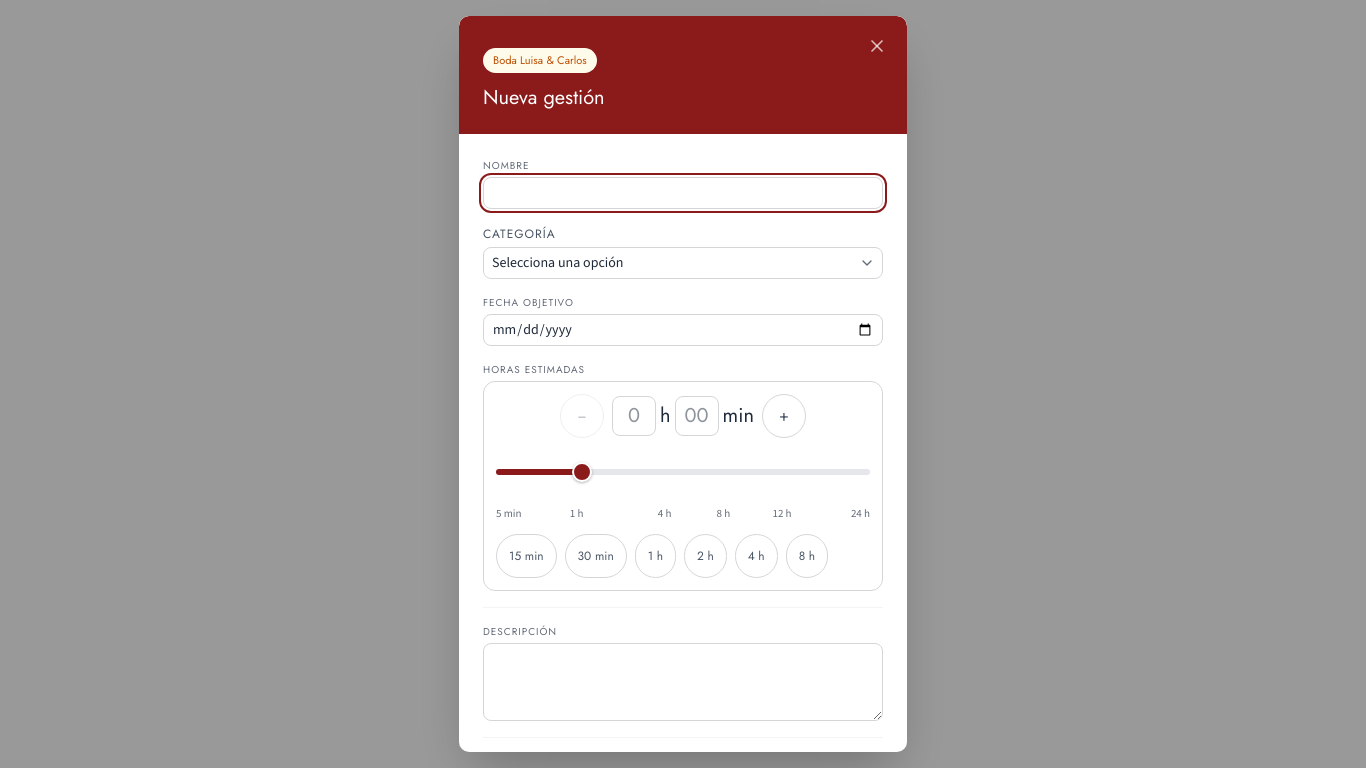
it: SubtaskFormModal › enviar sin horas estimadas muestra un error
This screenshot has width=1366, height=768.
Expected: the dropdown labelled "Categoría" is enabled, top-left (483, 246), bottom-right (883, 278)
In the field labelled "Nombre": point(683, 192) top-left (483, 176), bottom-right (883, 208), type "Confirmar catering"
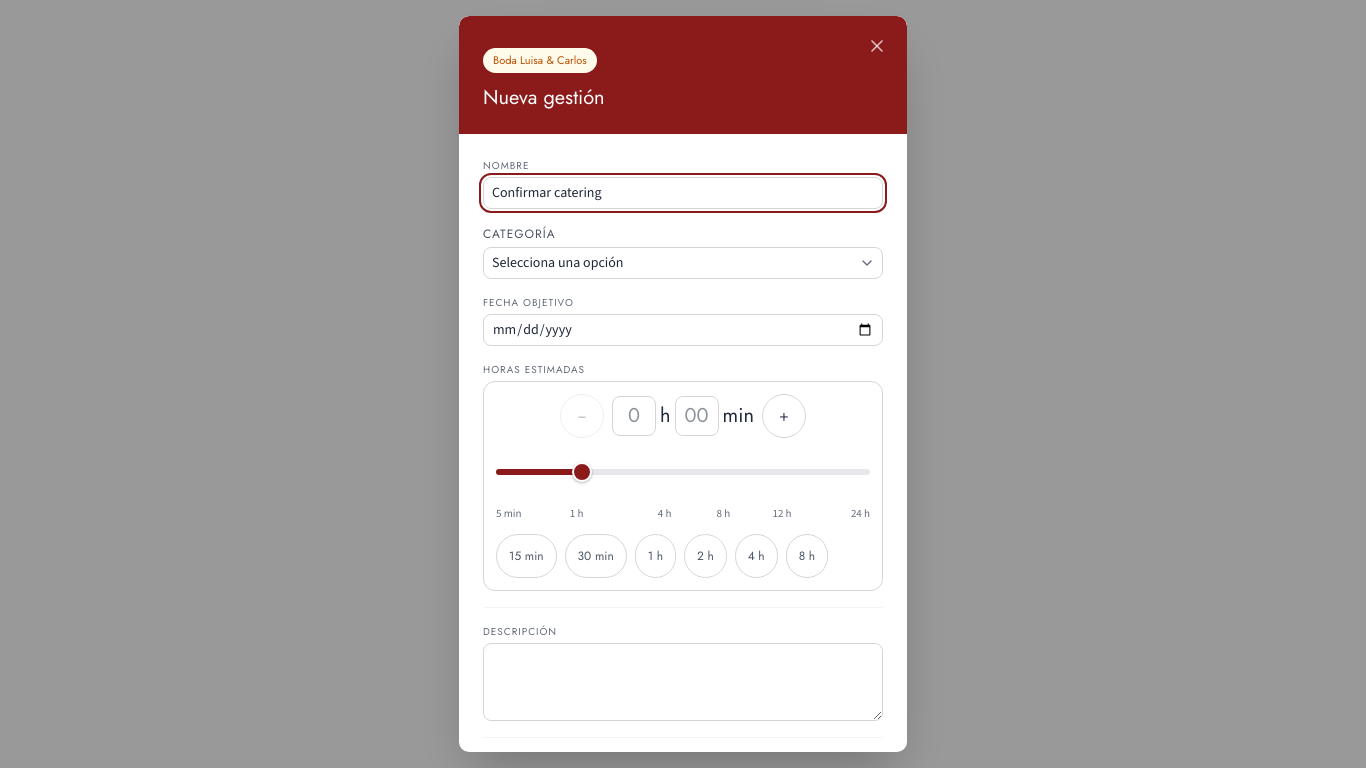
Select "Catering" in the dropdown labelled "Categoría": point(683, 262) top-left (483, 246), bottom-right (883, 278)
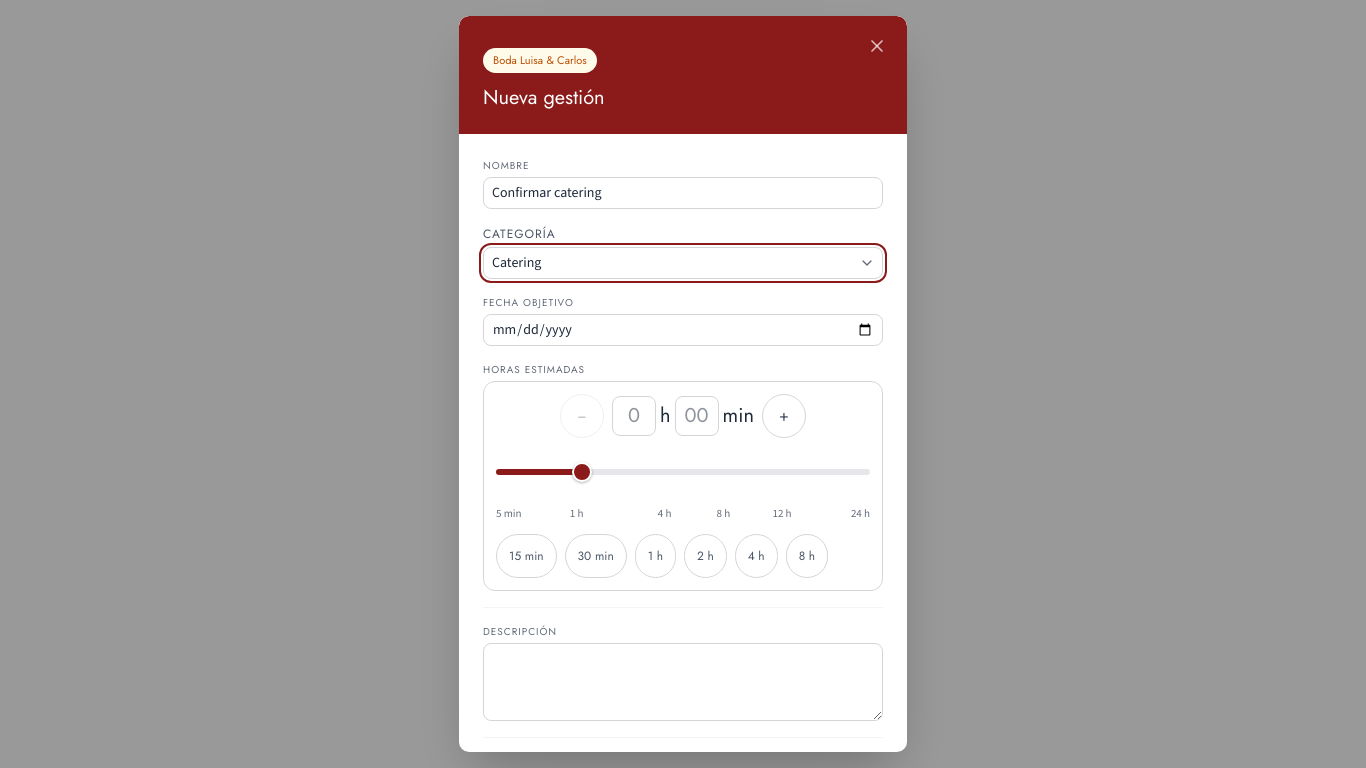
In the date field labelled "Fecha objetivo": point(683, 330) top-left (483, 314), bottom-right (883, 346), type "2026-10-01"
(page scrolled)
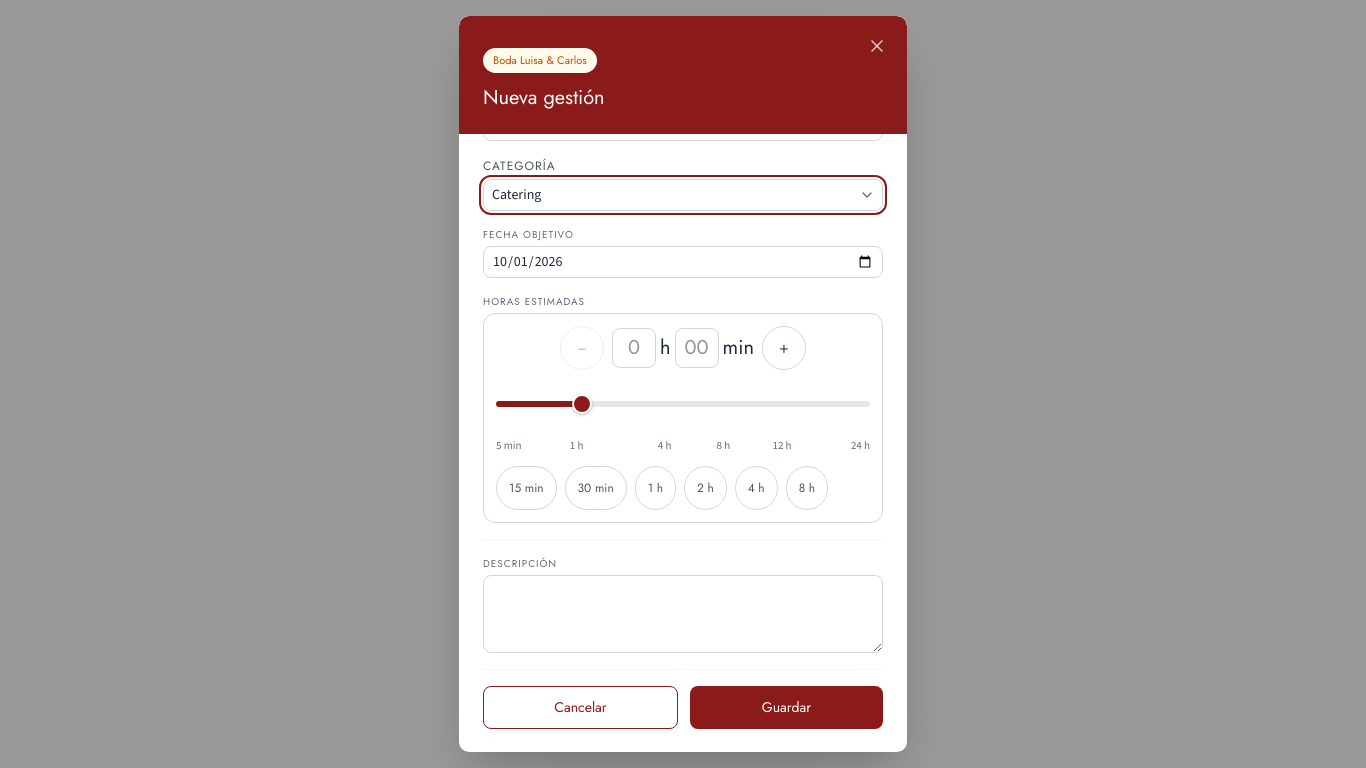
Click the button "Guardar": point(786, 707) top-left (690, 686), bottom-right (883, 729)
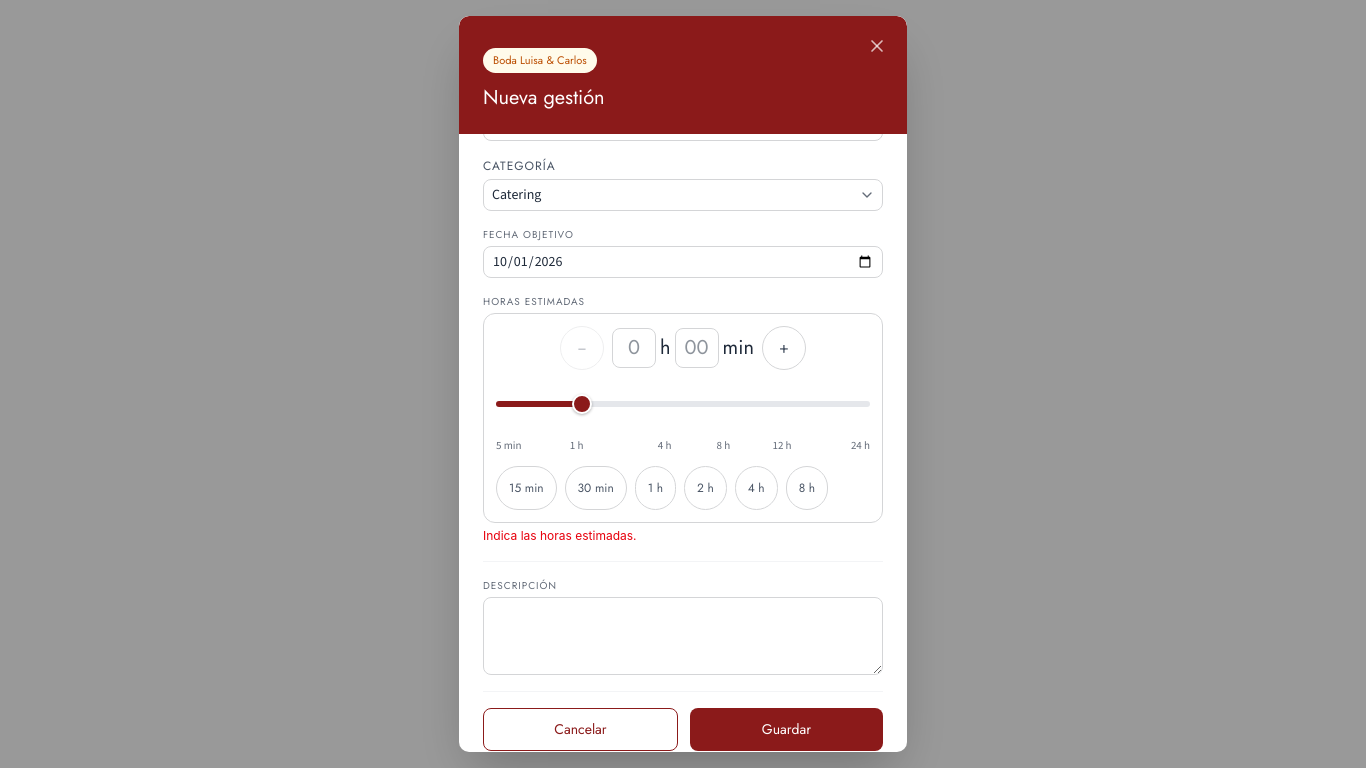
Expected: the text "Indica las horas estimadas." is shown, top-left (483, 528), bottom-right (637, 542)
